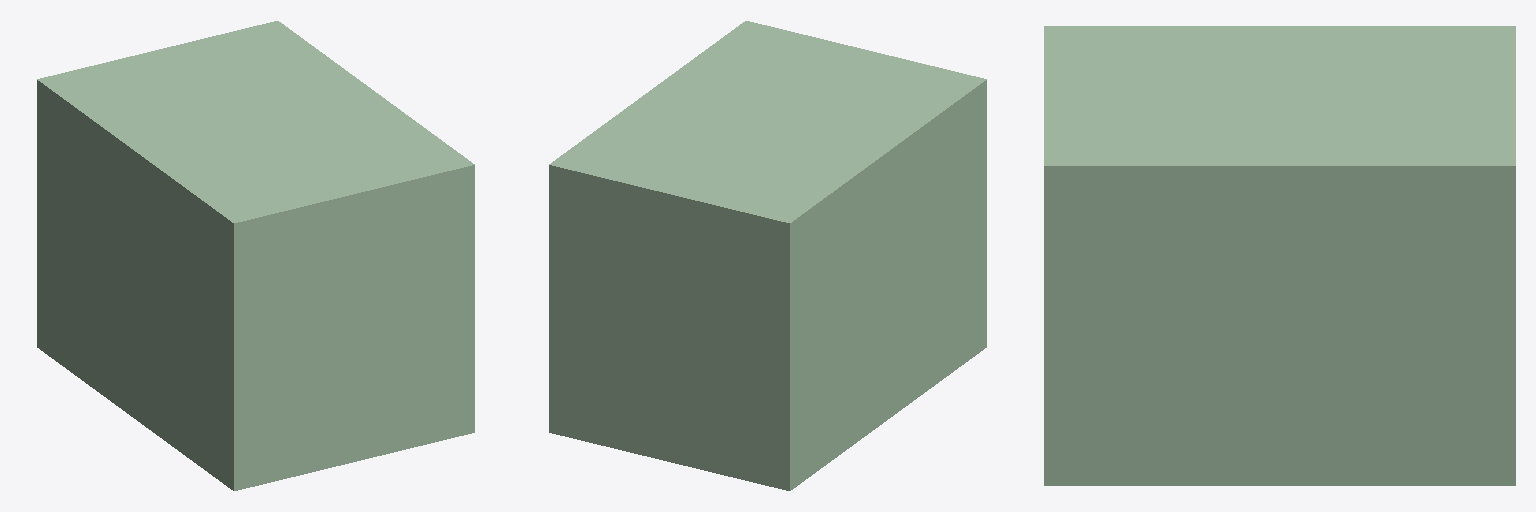
URDF robot description (box.urdf):
<?xml version="1.0" ?>
<robot name="box.urdf">
  <link name="baseLink">
    <contact>
      <lateral_friction value="1.0"/>
      <rolling_friction value="0.0001"/>
      <inertia_scaling value="3.0"/>
    </contact>
    <inertial>
      <origin rpy="0 0 0" xyz="0 0 0"/>
       <mass value="0.1"/>
       <inertia ixx="1" ixy="0" ixz="0" iyy="1" iyz="0" izz="1"/>
    </inertial>
    <visual>
      <origin rpy="0 0 0" xyz="0 0 0"/>
      <geometry>
        <!-- <box size="0.325 0.46 0.345"/> -->
        <mesh filename="box/box.obj" scale="0.325 0.46 0.345"/>
      </geometry>
      <material name="white">
        <color rgba="0.7 0.8 0.7 1"/>
      </material>
    </visual>
    <collision>
      <origin rpy="0 0 0" xyz="0 0 0"/>
      <geometry>
        <mesh filename="box/box.obj" scale="0.325 0.46 0.345"/>
	 	    <!-- <box size="0.325 0.46 0.345"/> -->
      </geometry>
    </collision>
  </link>
</robot>

--- Render facts (derived) ---
3 views of the same robot in one strip: view 1: azimuth 30°, elevation 25°; view 2: azimuth 150°, elevation 25°; view 3: azimuth 270°, elevation 25° (orthographic).
Model box.urdf with 1 links and 0 joints (none), rooted at baseLink, posed every joint at zero.
Visible links, largest first — view 1: baseLink; view 2: baseLink; view 3: baseLink.
Link boxes in pixels (x1,y1,x2,y2): baseLink: [37, 21, 474, 490]; baseLink: [549, 21, 986, 490]; baseLink: [1044, 26, 1515, 485].
Size in the robot's own frame: 0.325 by 0.46 by 0.345 metres.
1 mesh visuals loaded from 1 distinct referenced files (1 OBJ).
